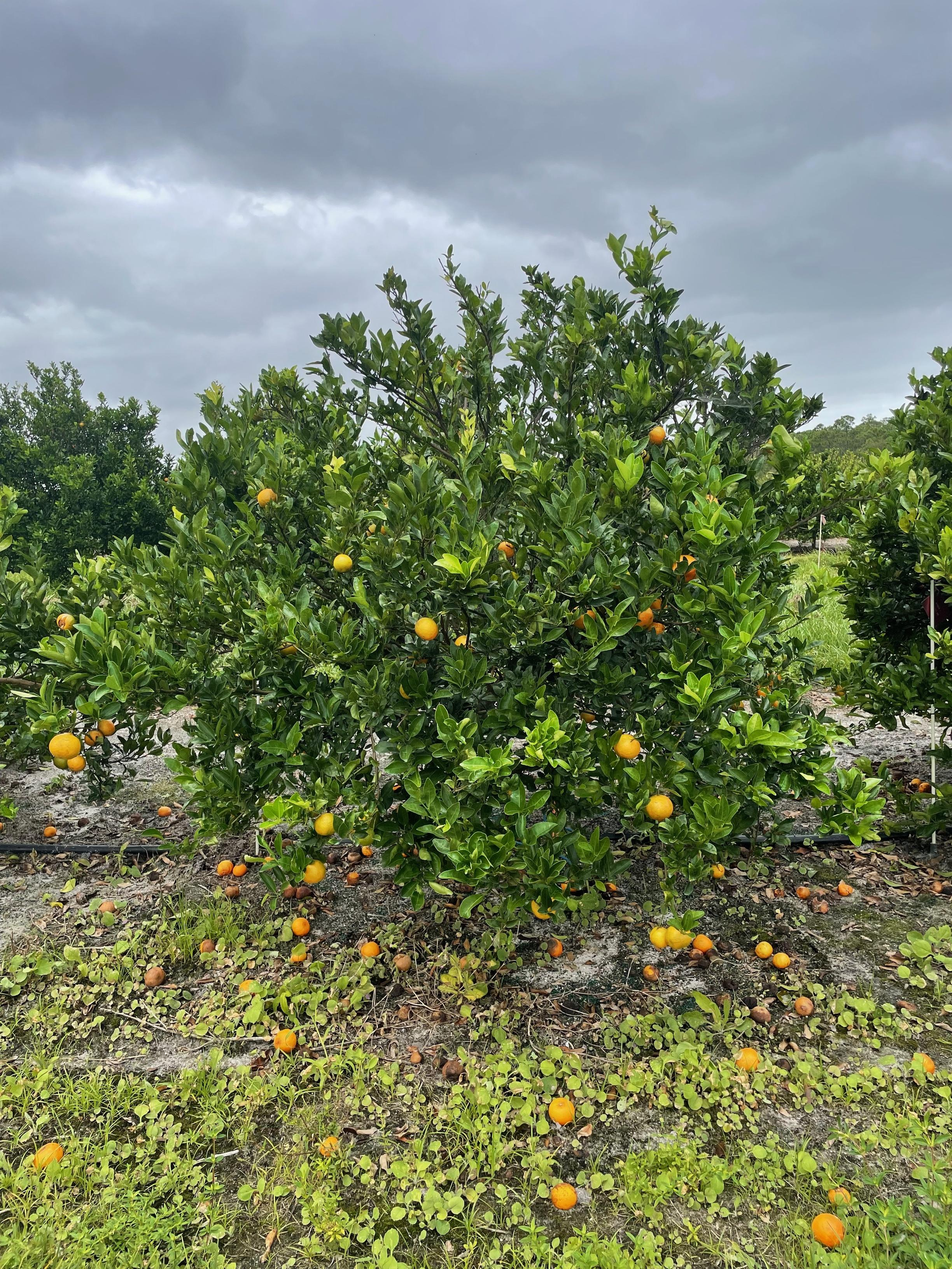fruit_on_ground: (667, 551, 701, 583), (47, 729, 82, 760), (644, 792, 674, 823), (568, 604, 601, 632), (664, 923, 694, 952), (613, 732, 642, 760), (411, 615, 440, 642), (299, 858, 327, 885), (254, 485, 282, 511), (312, 809, 338, 837), (530, 895, 556, 920), (330, 551, 356, 575), (275, 636, 302, 659), (632, 606, 656, 631), (54, 610, 79, 634), (644, 424, 668, 448), (648, 924, 670, 950), (494, 538, 518, 561), (94, 715, 117, 738), (452, 633, 476, 655), (364, 520, 385, 541), (65, 753, 87, 773), (83, 728, 106, 747), (646, 620, 667, 640), (647, 594, 668, 613), (51, 753, 72, 771), (634, 447, 653, 466), (578, 707, 597, 725), (709, 861, 726, 880), (454, 356, 471, 374), (729, 697, 747, 712), (832, 682, 848, 698), (754, 683, 770, 699), (249, 406, 265, 422), (768, 696, 782, 708)
fruit_on_tree: (810, 1211, 847, 1248), (32, 1139, 66, 1171), (546, 1095, 578, 1126), (910, 1049, 939, 1079), (732, 1045, 761, 1074), (549, 1181, 578, 1210), (825, 1185, 854, 1210), (273, 1026, 299, 1053), (317, 1133, 343, 1158), (441, 1058, 466, 1082), (142, 965, 168, 988), (792, 994, 815, 1017), (691, 931, 714, 953), (544, 935, 565, 958), (290, 916, 313, 937), (748, 1004, 772, 1024), (237, 977, 261, 997), (392, 951, 413, 972), (770, 949, 791, 970), (332, 995, 354, 1015), (754, 940, 775, 960), (196, 936, 218, 955), (215, 856, 234, 877), (96, 898, 118, 916), (359, 940, 381, 958), (641, 963, 661, 982), (287, 947, 308, 965), (395, 1002, 413, 1022), (407, 1048, 425, 1068), (293, 882, 312, 900), (222, 884, 241, 901), (836, 880, 854, 897), (686, 946, 705, 962), (281, 883, 298, 900), (231, 861, 248, 878), (794, 884, 812, 900), (917, 779, 934, 795), (345, 870, 362, 886), (42, 823, 59, 838), (156, 803, 173, 817), (359, 843, 375, 857), (325, 851, 340, 865), (908, 776, 923, 788)
